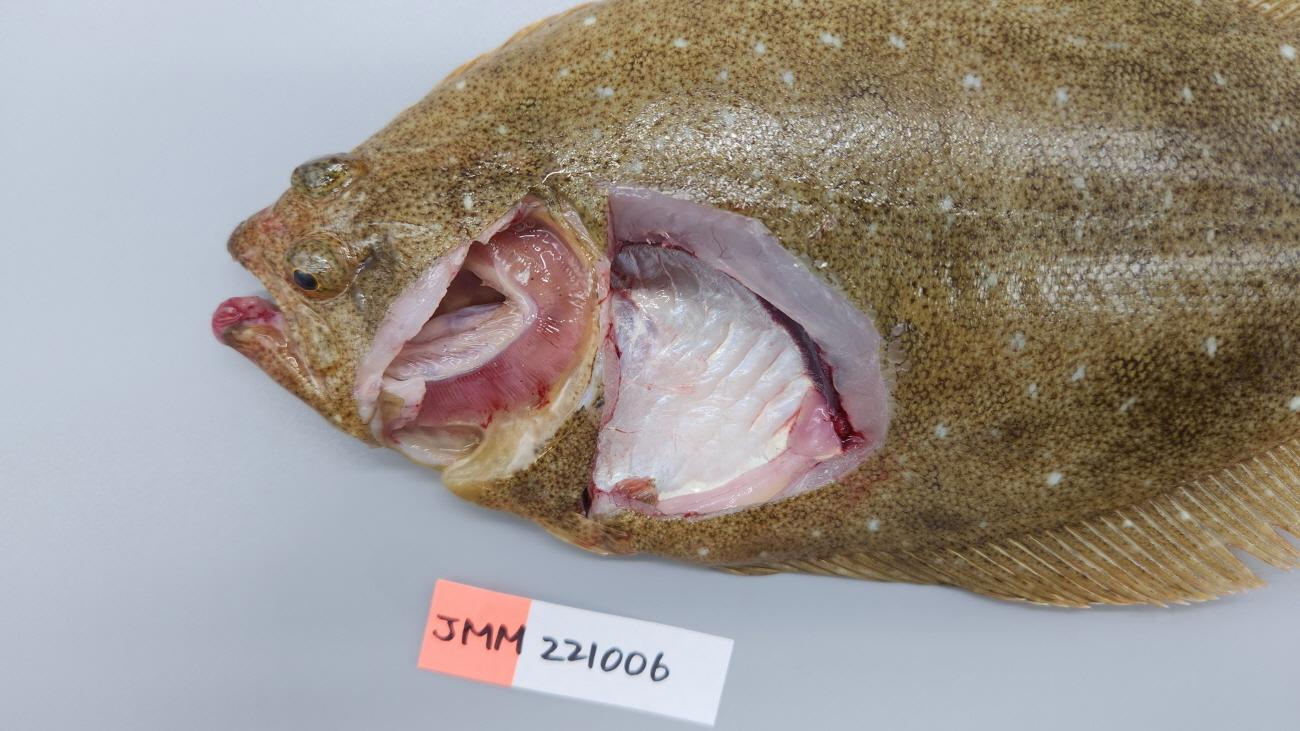POREN: (655, 389, 842, 515)
